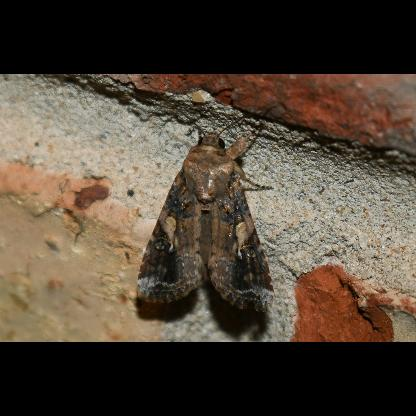Fall Armyworm Moth: (134, 78, 289, 316)
